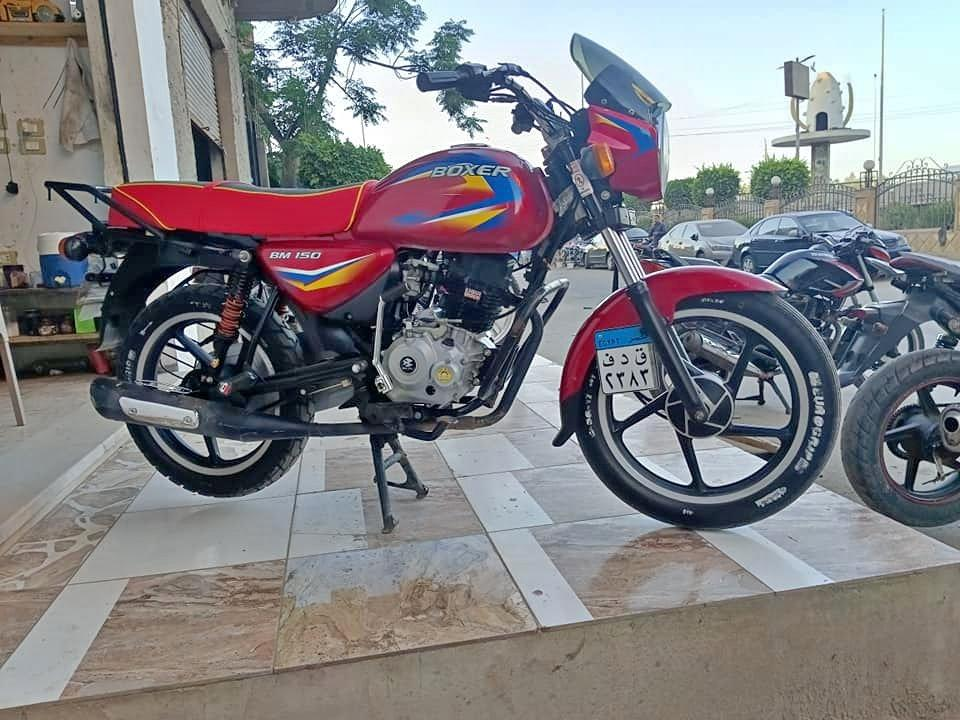License Plate: (593, 326, 659, 393)
